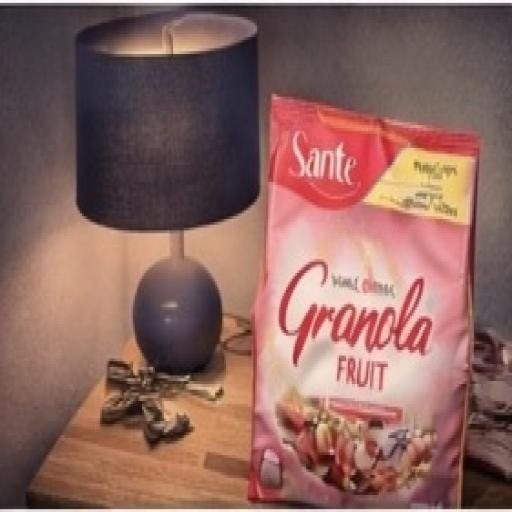granola: (226, 79, 494, 503)
